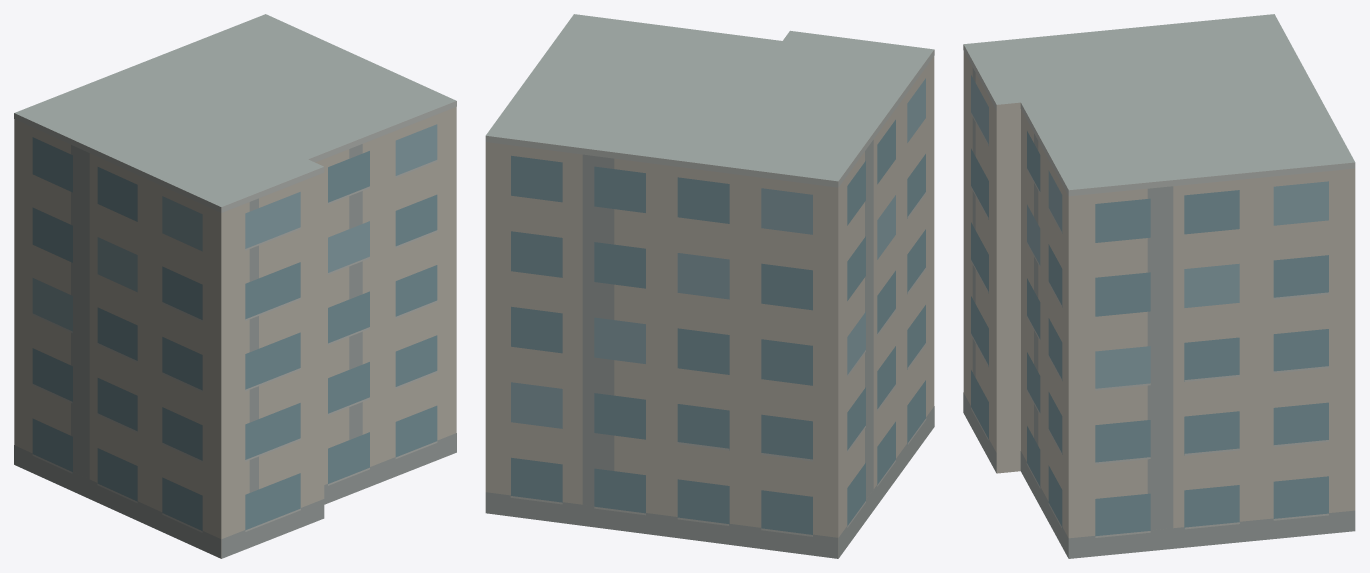
Rendered from survey-upis-32807573.glb.
The picture shows the model from 3 angles, left to right: view 1: azimuth 30°, elevation 25°; view 2: azimuth 150°, elevation 25°; view 3: azimuth 270°, elevation 25°; orthographic projection. The views are drawn at different scales.
Parts seen in each view (by area): view 1: survey-upis-32807573.tmp; view 2: survey-upis-32807573.tmp; view 3: survey-upis-32807573.tmp.
Boxes of the visible parts, box(x1,y1,x2,y2) form: survey-upis-32807573.tmp: box(14, 14, 456, 558); survey-upis-32807573.tmp: box(485, 14, 934, 558); survey-upis-32807573.tmp: box(963, 14, 1355, 558).
Size of the model in its own units: 15.08 by 14.7 by 14.17.
